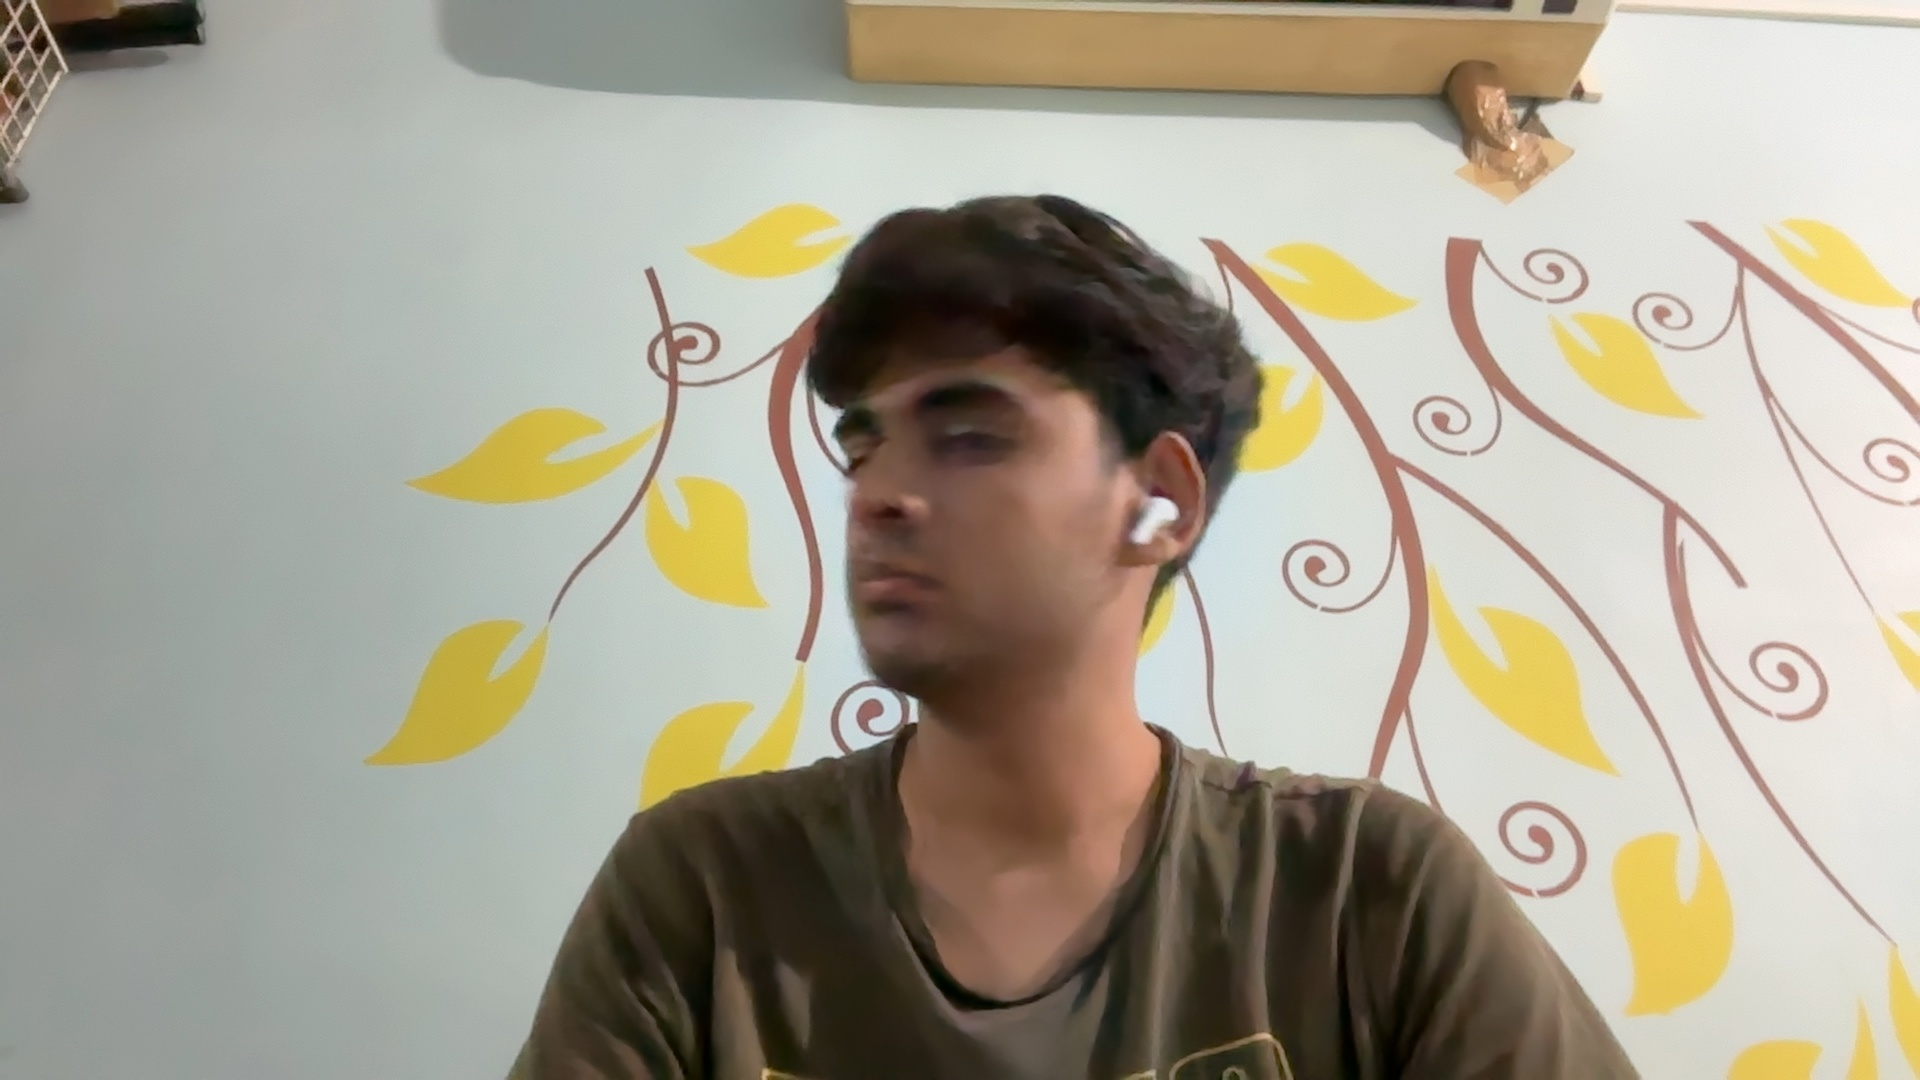No Mask: (821, 477, 1103, 689)
